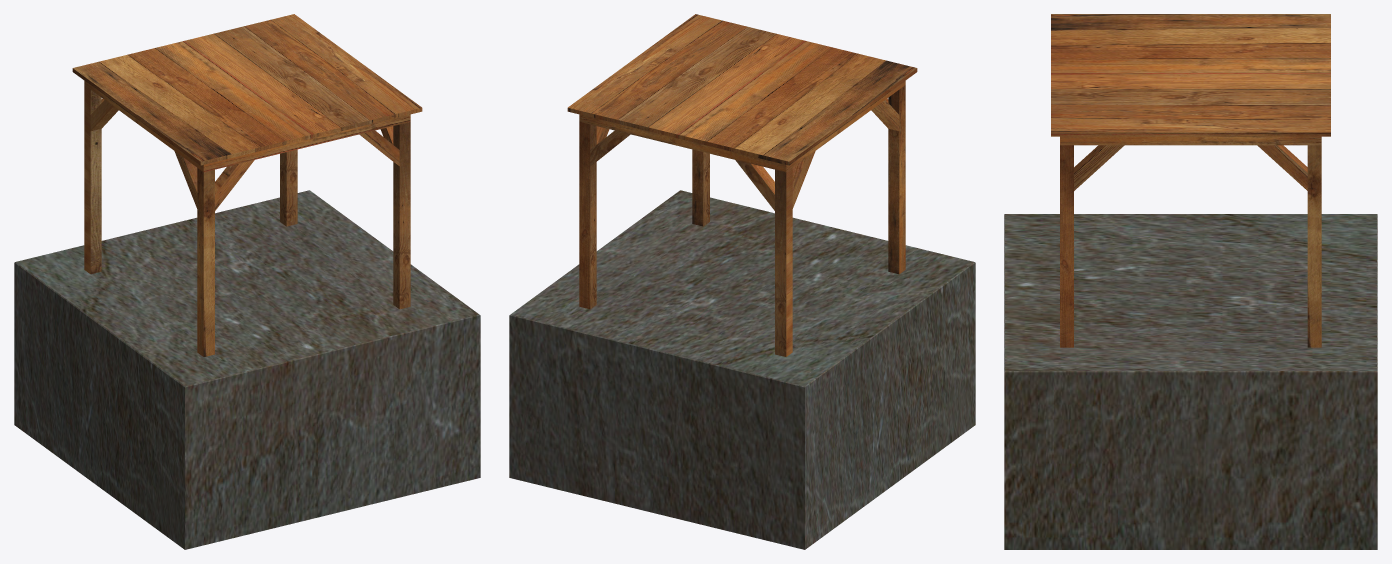
File: Shelter.fbx
3 views of the same model, side by side, from view 1: azimuth 30°, elevation 25°; view 2: azimuth 150°, elevation 25°; view 3: azimuth 270°, elevation 25° (orthographic). The views are drawn at different scales.
Parts seen in each view (by area): view 1: FLOOR, ROOF, FRAME; view 2: FLOOR, ROOF, FRAME; view 3: FLOOR, ROOF, FRAME.
Boxes of the visible parts, x1,y1,x2,y2 form: FLOOR: [14, 190, 480, 549]; ROOF: [72, 14, 422, 165]; FRAME: [84, 81, 410, 356]; FLOOR: [509, 190, 975, 549]; ROOF: [567, 14, 917, 165]; FRAME: [579, 81, 905, 356]; FLOOR: [1004, 214, 1377, 549]; ROOF: [1051, 14, 1330, 136]; FRAME: [1060, 136, 1321, 347].
Bounding box in the file's own units: 400 × 470 × 400.
